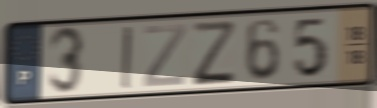3: (46, 23, 86, 100)
5: (291, 15, 332, 80)
6: (244, 16, 282, 84)
I: (119, 23, 134, 91)
Z: (189, 18, 238, 88), (141, 21, 189, 89)
